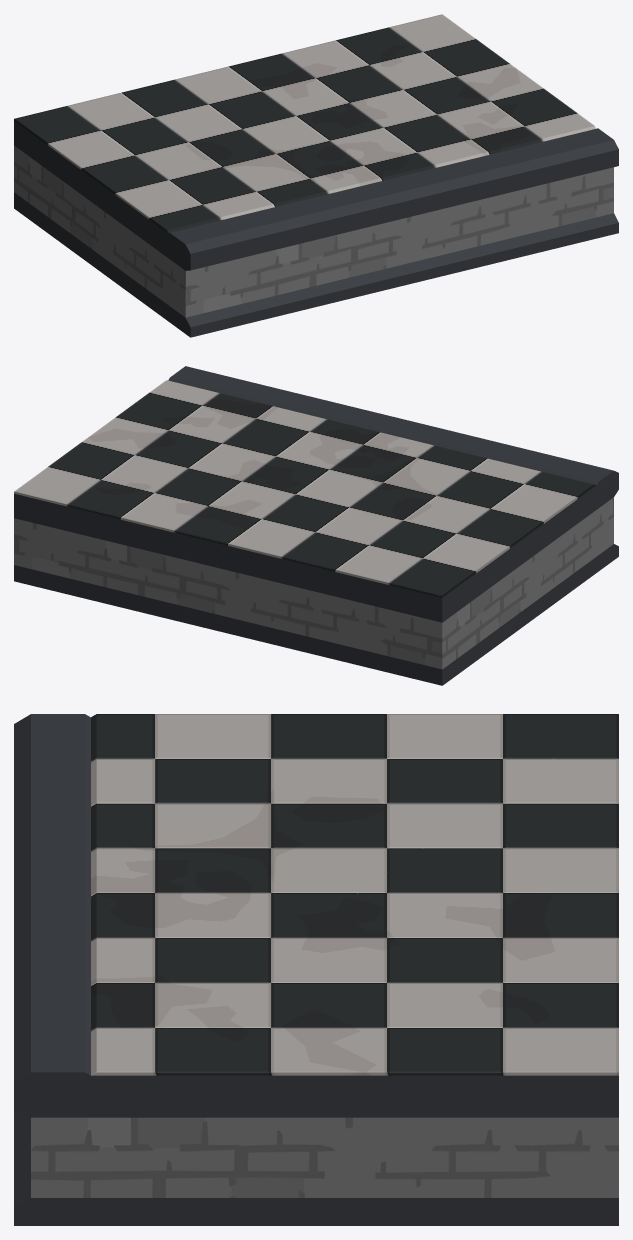
Rendered from SM_Prop_Platform_02.obj.
The picture shows the model from 3 angles, top to bottom: view 1: azimuth 30°, elevation 25°; view 2: azimuth 150°, elevation 25°; view 3: azimuth 270°, elevation 25°; orthographic projection. The views are drawn at different scales.
Visible parts, largest first — view 1: SM_Prop_Platform_02_1, SM_Prop_Platform_02_0, SM_Prop_Platform_02_2; view 2: SM_Prop_Platform_02_1, SM_Prop_Platform_02_0, SM_Prop_Platform_02_2; view 3: SM_Prop_Platform_02_1, SM_Prop_Platform_02_0, SM_Prop_Platform_02_2.
Boxes of the visible parts, left/top/right/bottom form: SM_Prop_Platform_02_1: left=14, top=14, right=595, bottom=233; SM_Prop_Platform_02_0: left=14, top=121, right=618, bottom=337; SM_Prop_Platform_02_2: left=14, top=145, right=613, bottom=317; SM_Prop_Platform_02_1: left=14, top=380, right=595, bottom=597; SM_Prop_Platform_02_0: left=14, top=366, right=618, bottom=685; SM_Prop_Platform_02_2: left=14, top=497, right=613, bottom=669; SM_Prop_Platform_02_1: left=91, top=714, right=618, bottom=1075; SM_Prop_Platform_02_0: left=14, top=714, right=618, bottom=1225; SM_Prop_Platform_02_2: left=31, top=1117, right=618, bottom=1197.
Size of the model in its own units: 2.5 by 0.5 by 1.78.
Materials: 3 (3 with a texture image).
